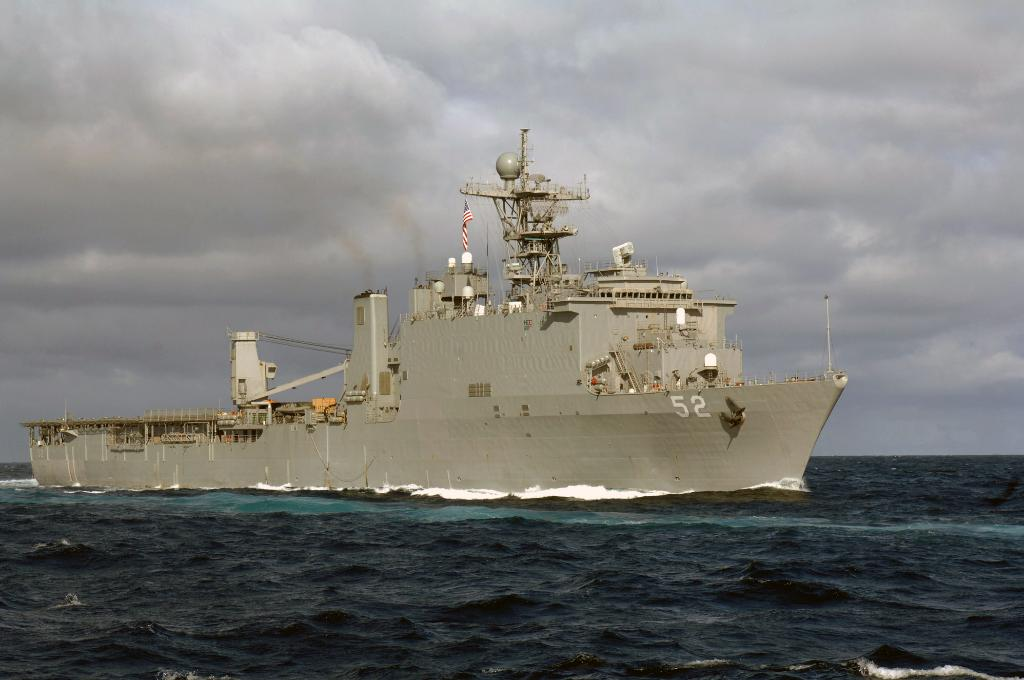Warship: (22, 110, 852, 516)
